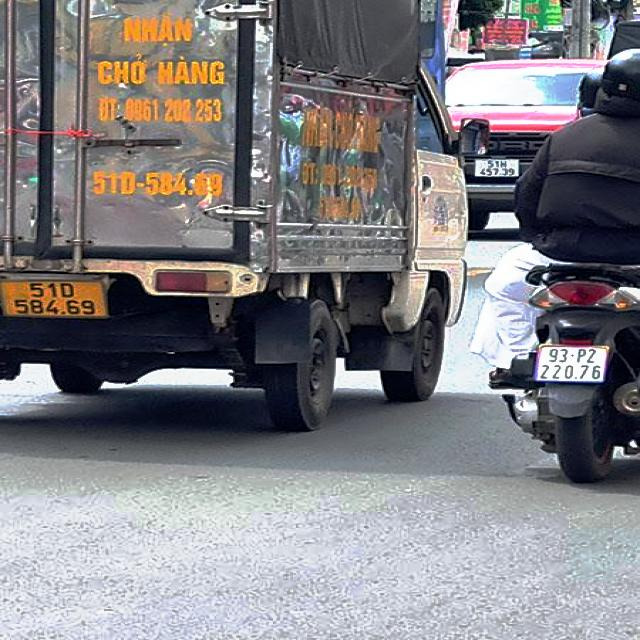license_plate: (5, 277, 110, 318), (539, 344, 609, 385)
